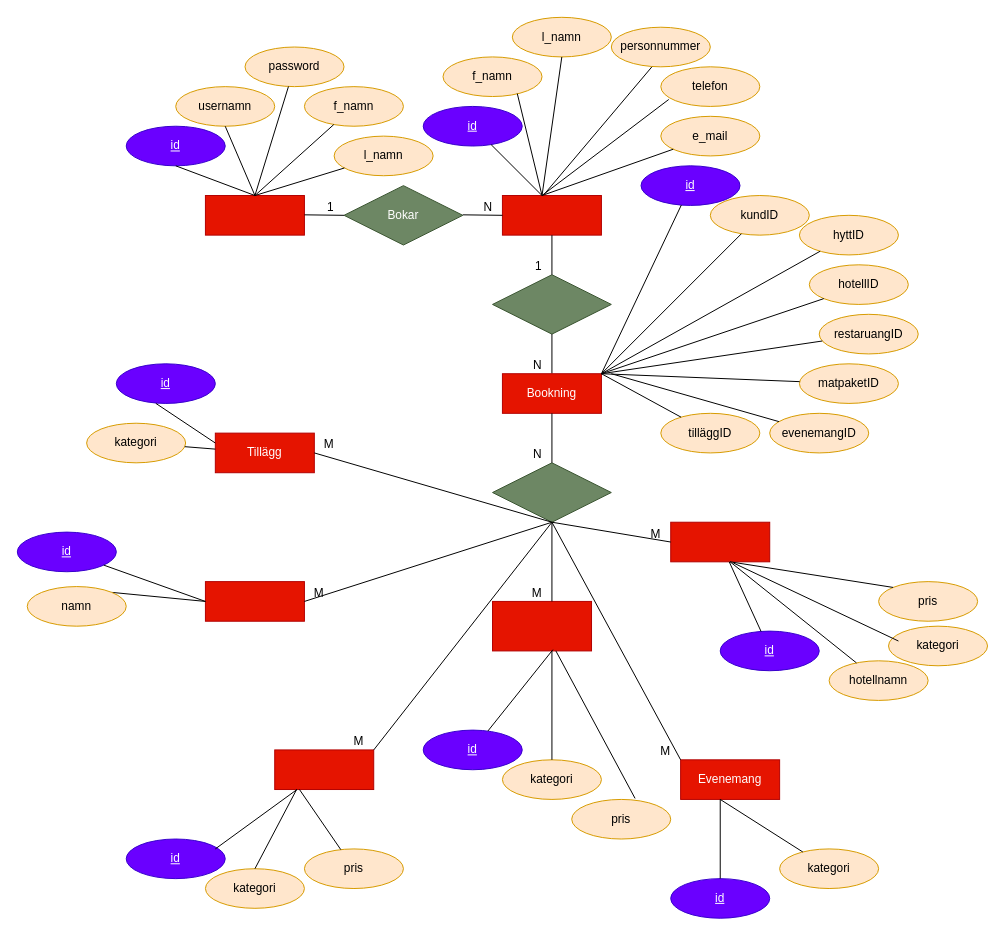
Image size: 1005x936. Some labels were removed from this diagram. The centre of each missing label's shape, as x and y in pixels:
Användare: the point at 254,215
För: the point at 551,492
Har: the point at 551,304
Hotell: the point at 720,541
Hytt: the point at 542,625
Kund: the point at 551,215
Matpaket: the point at 324,769
Restaurang: the point at 254,601
